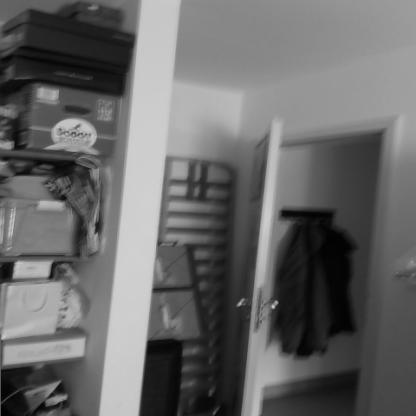semi: (234, 106, 415, 416)
